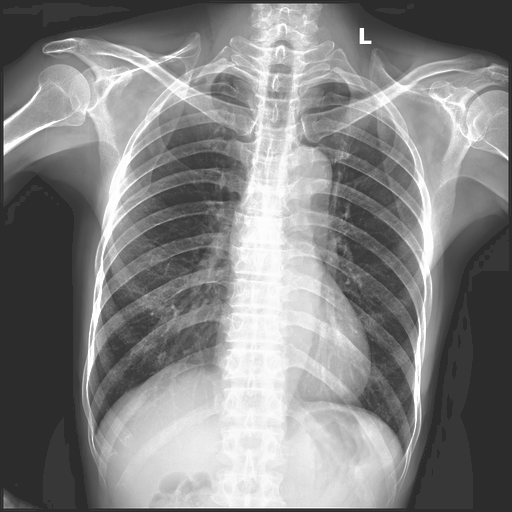Calcification: (346, 82, 371, 92)
Consolidation: (283, 144, 332, 202)
Other lesion: (218, 71, 234, 99)
Pleural thickening: (218, 71, 234, 99), (335, 84, 357, 94)
